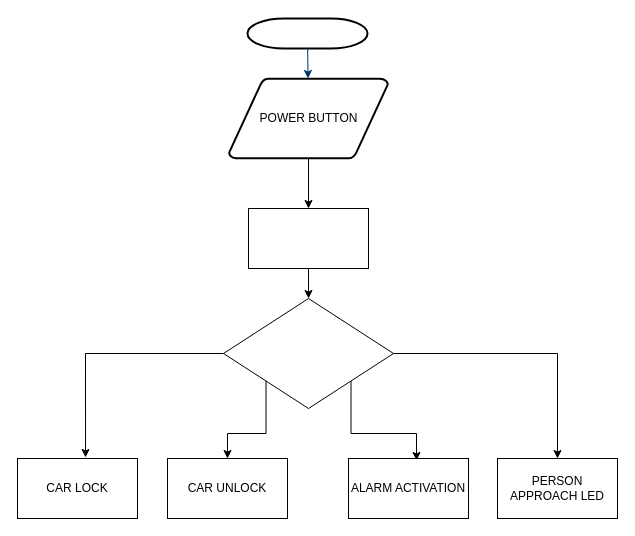
The diagram is 635 pixels wide and 536 high, and some of its shapes have lost their labels. The box of each missing label's shape, as (x1, y1, x2, y2) in pixels:
ENCRYPTION: (248, 208, 368, 268)
START: (246, 17, 368, 49)
USER: (222, 298, 394, 408)
